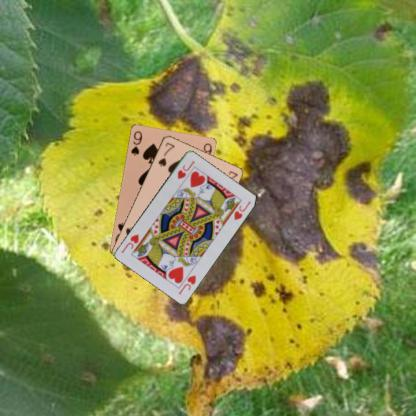7s: (155, 139, 176, 168)
9s: (128, 128, 144, 157)
Jh: (176, 272, 197, 296), (174, 158, 196, 180)
